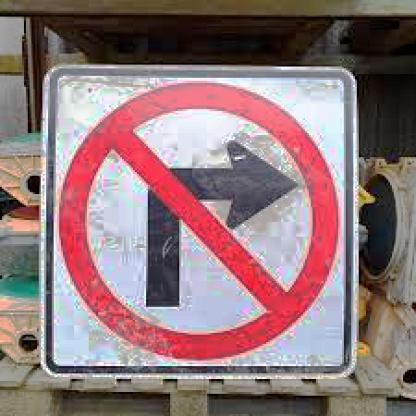No right turn: (51, 63, 349, 375)
